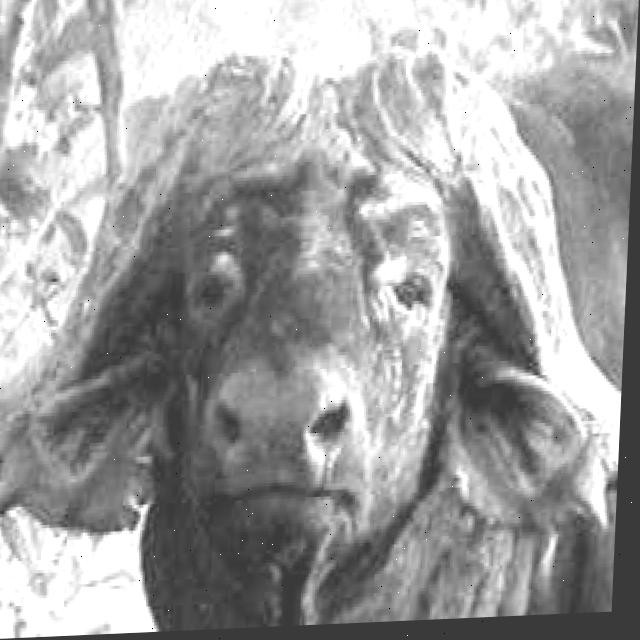Buffalo: (0, 33, 637, 637)
